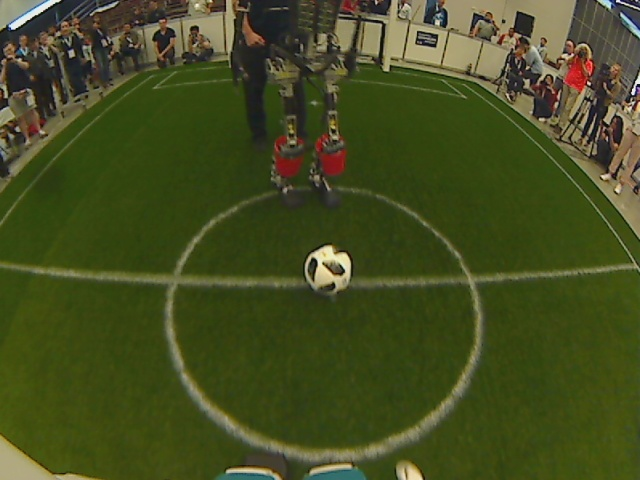ball: (300, 243, 355, 295)
